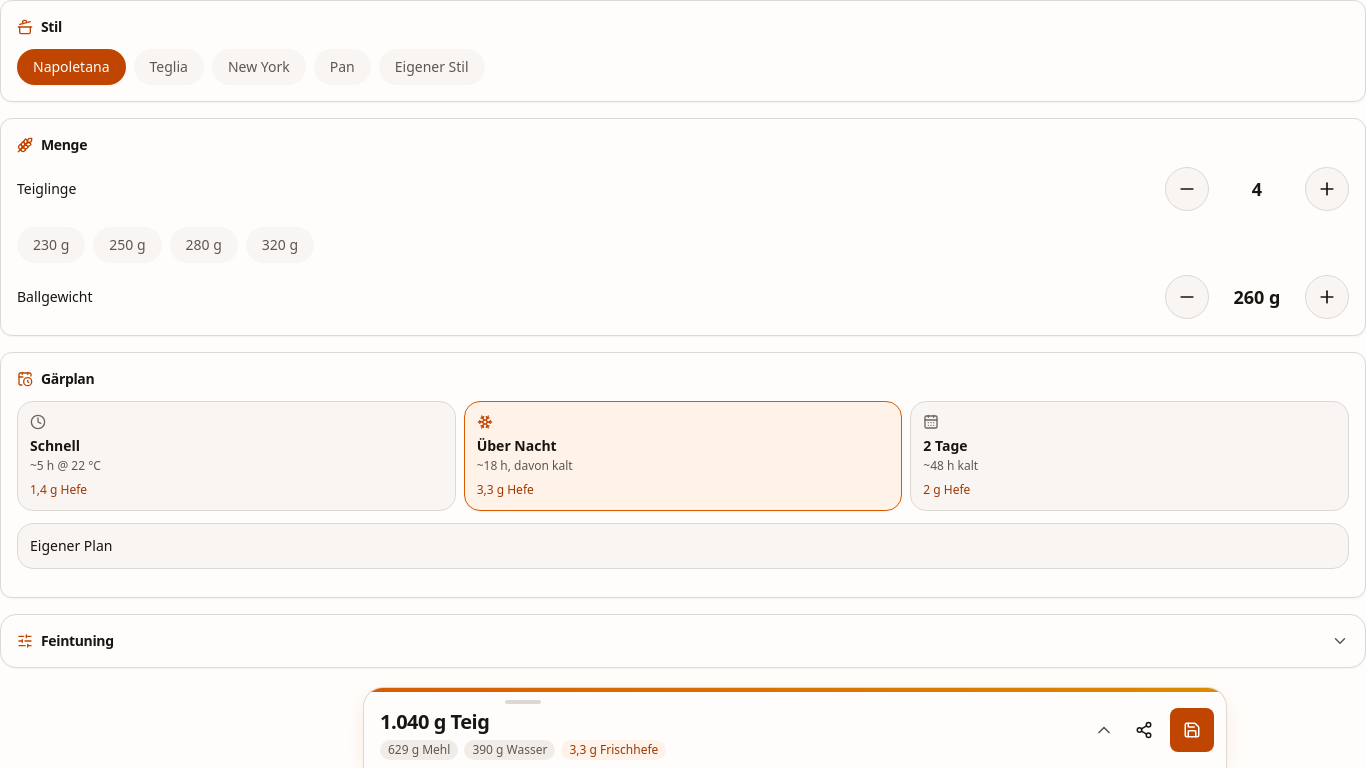
Scenario: CalculatorPage › saves a recipe, then detaches again via the Neu action
This screenshot has width=1366, height=768.
Save is reachable without expanding the result sheet.
Click the button named "Speichern".
click(1192, 730)  # box top-left (1170, 708), bottom-right (1214, 752)
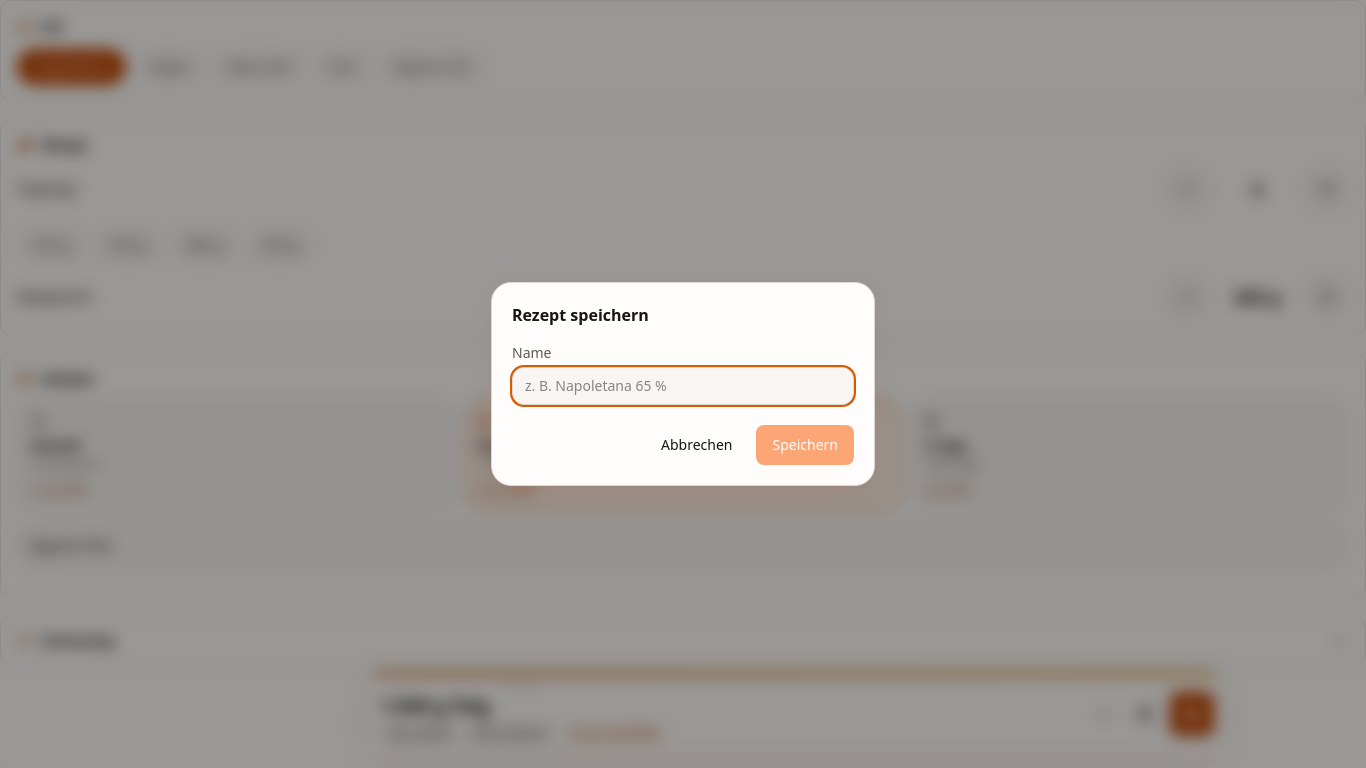
Type "Testpizza" into the field labelled "Name".
click(683, 386); type("Testpizza")  # box top-left (512, 367), bottom-right (854, 405)
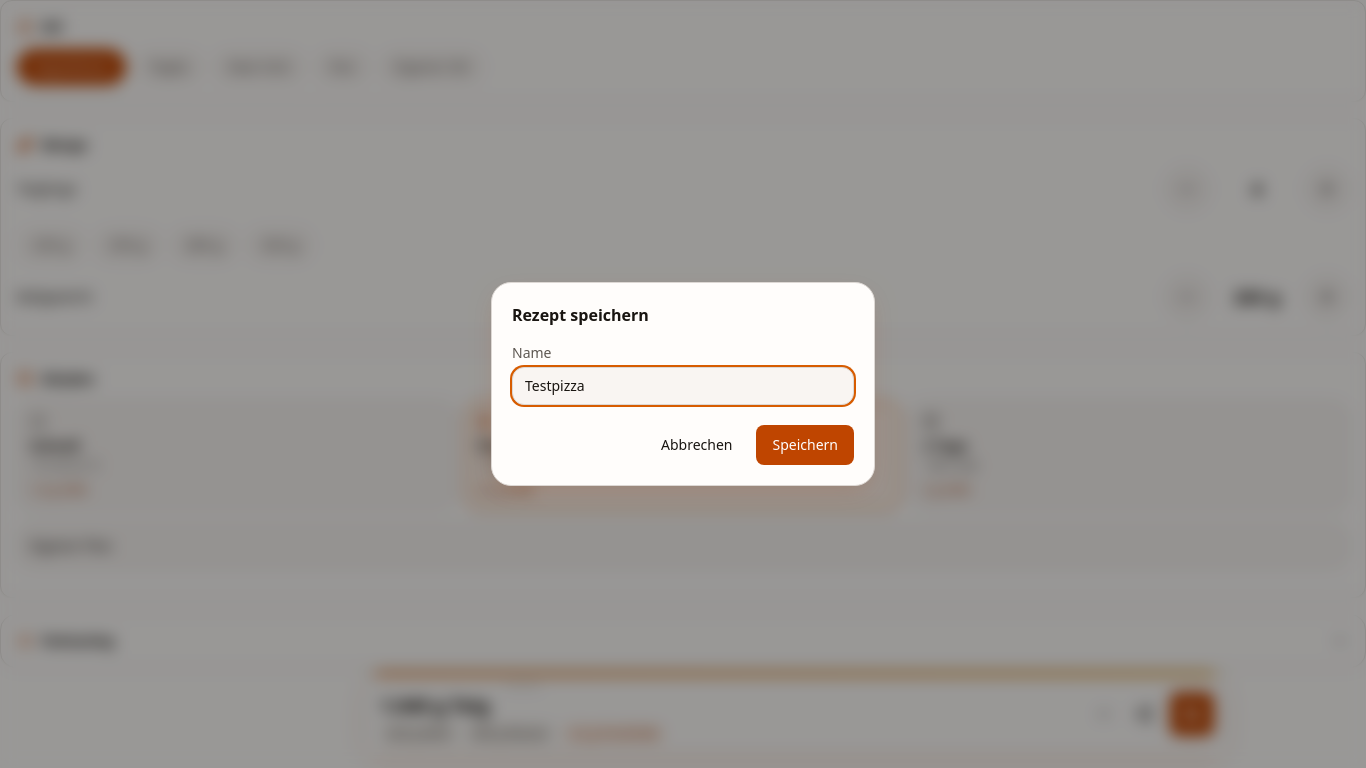
Now the button "Speichern" is shown
Click the button "Speichern".
click(805, 445)  # box top-left (756, 425), bottom-right (854, 465)
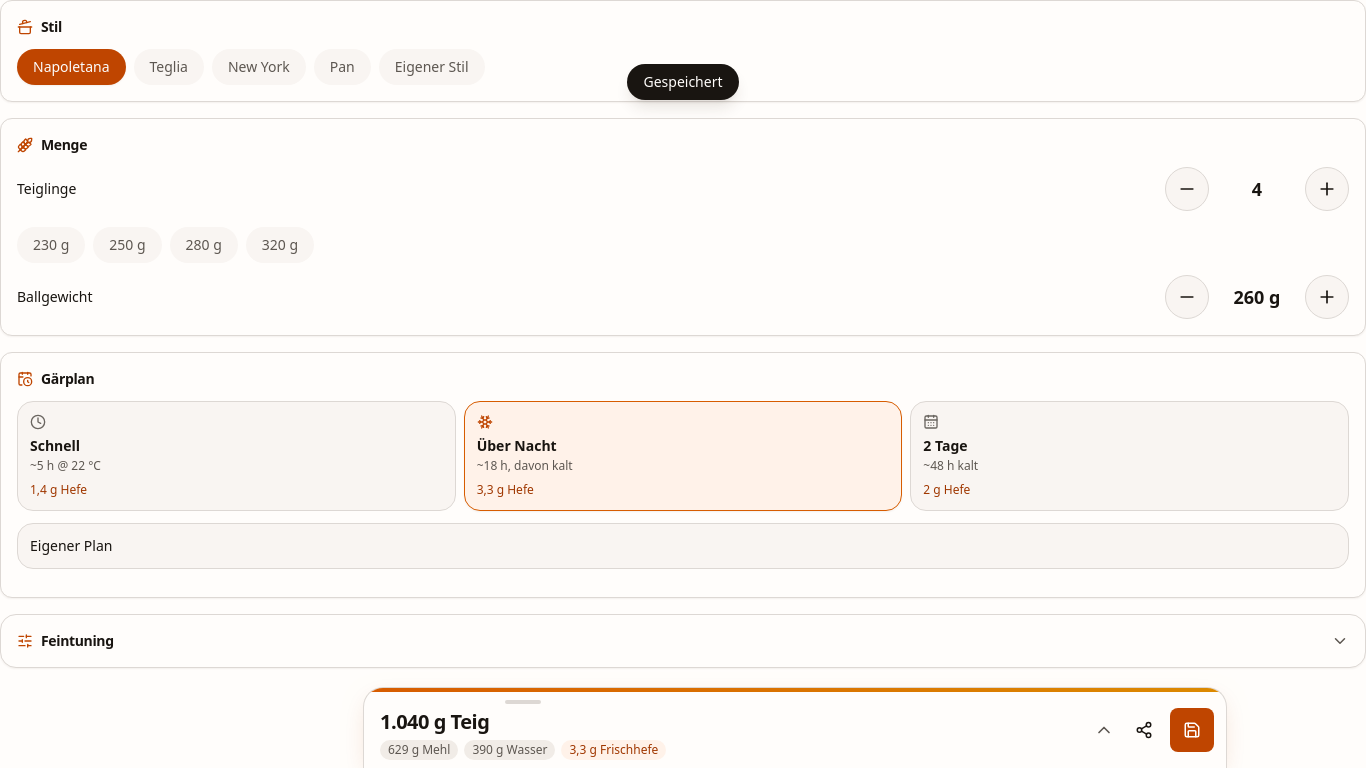
Now the button named "Aktualisieren" is shown, box top-left (1170, 708), bottom-right (1214, 752)
Neu lives in the expanded sheet and asks before discarding the draft.
Click the button with aria-label "Ergebnis aufziehen".
click(523, 702)  # box top-left (364, 692), bottom-right (1118, 767)
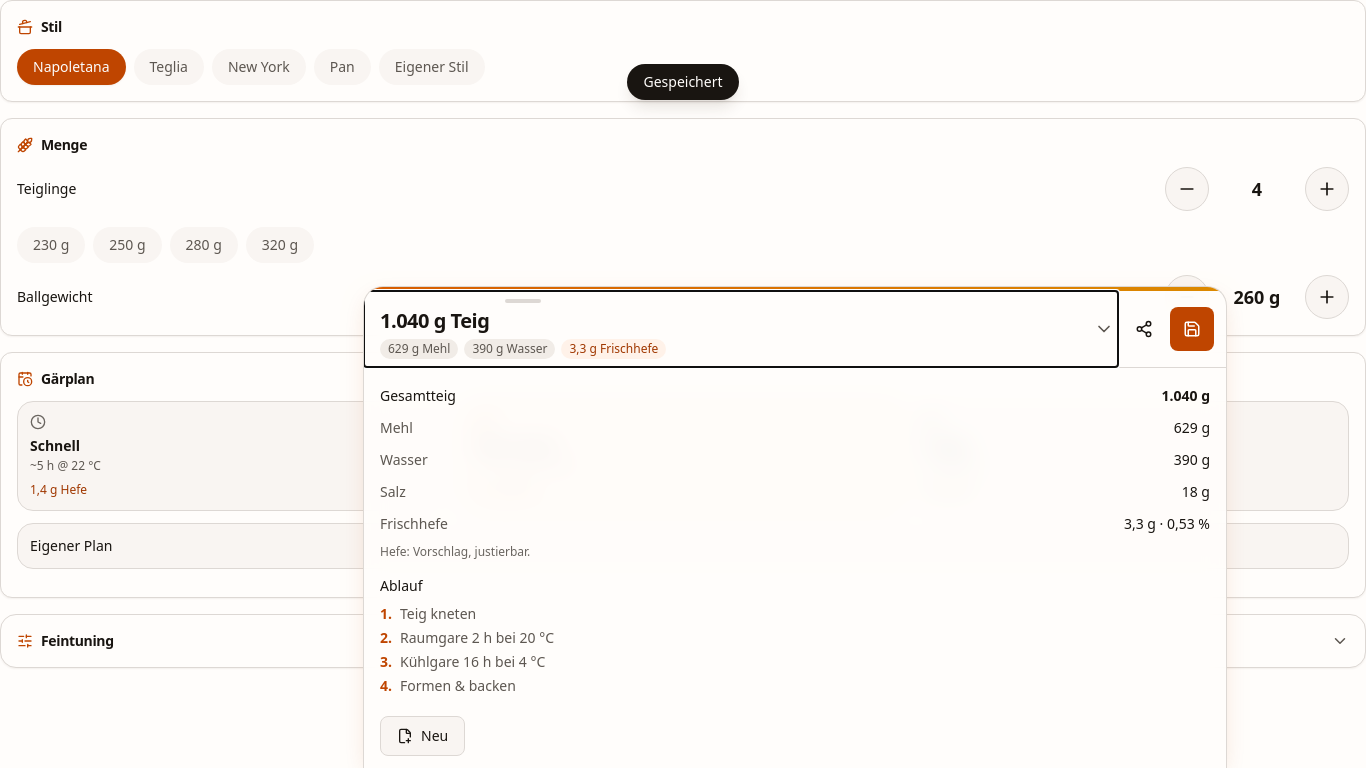
Click the button "Neu".
click(423, 736)  # box top-left (380, 716), bottom-right (465, 756)
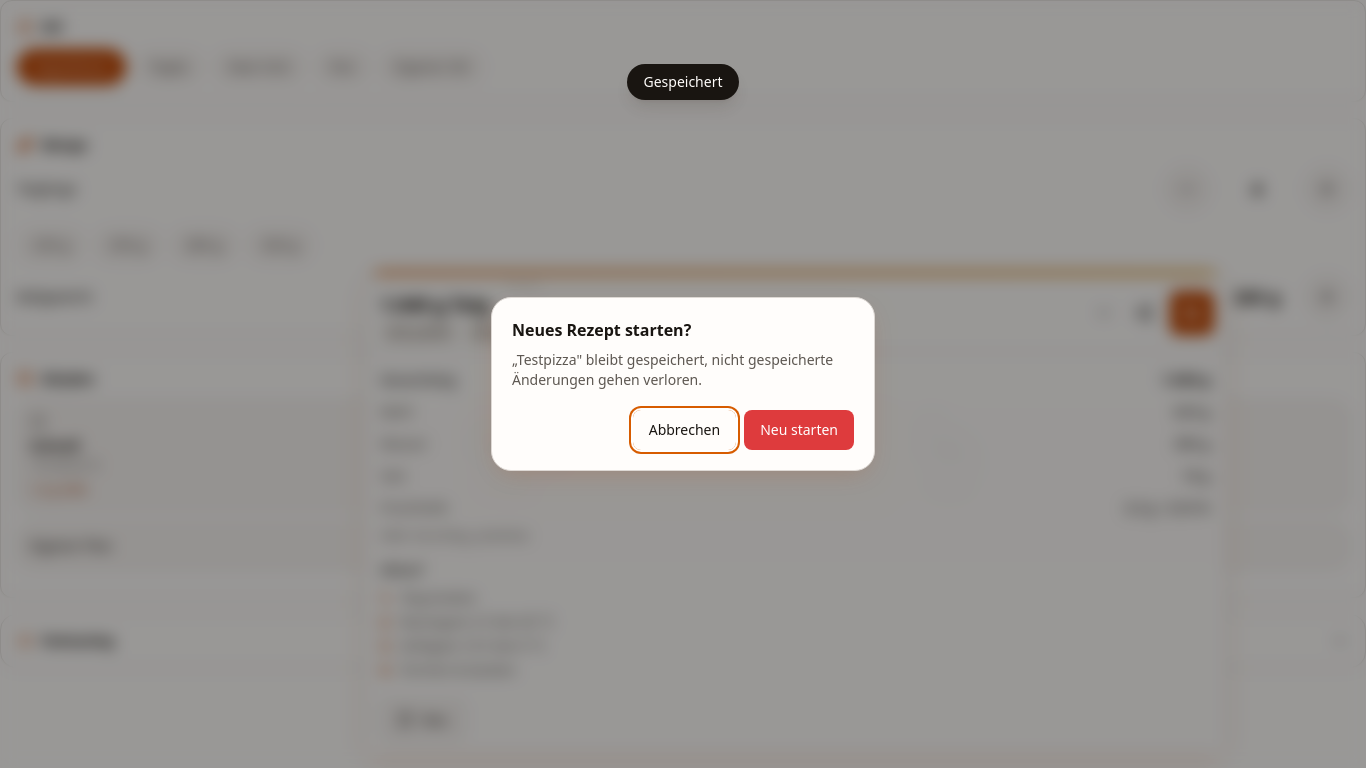
Click the button "Neu starten".
click(799, 430)  # box top-left (744, 410), bottom-right (854, 450)
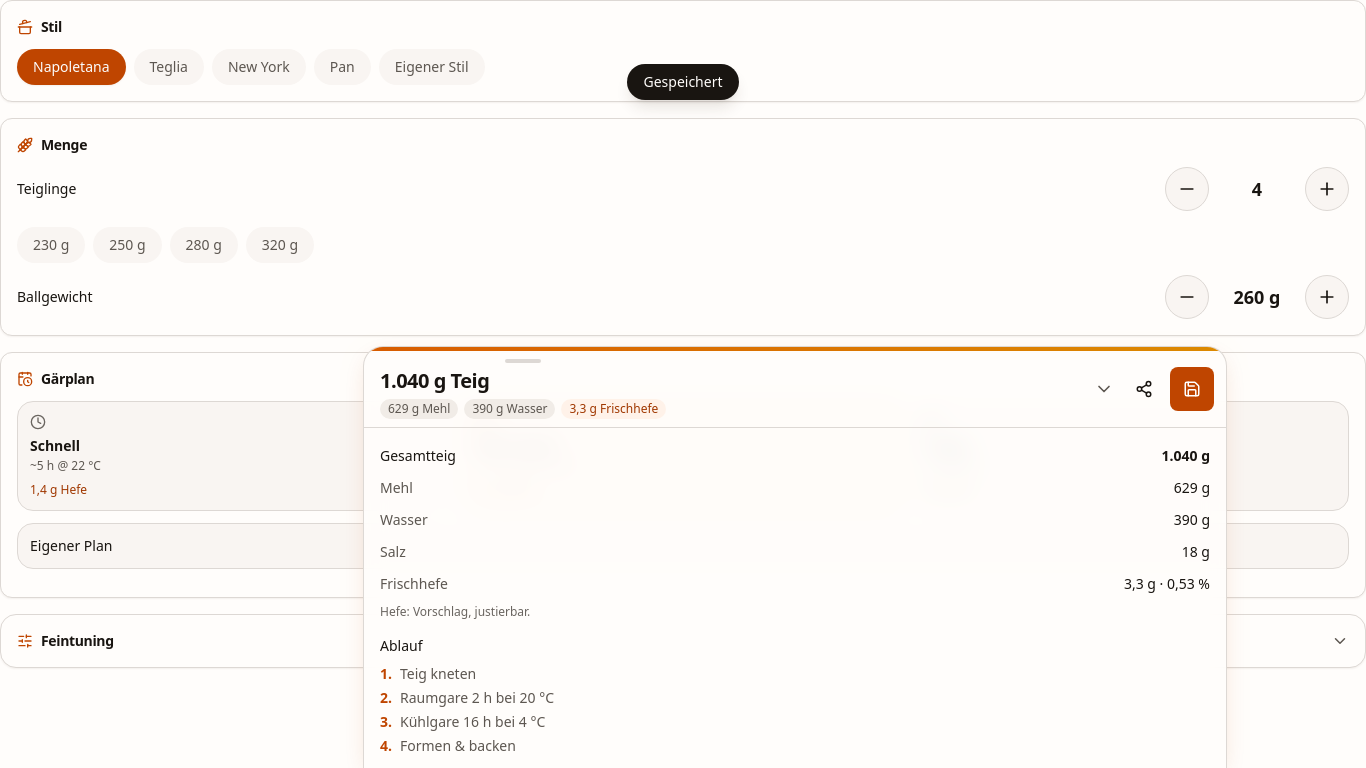
Now the button named "Speichern" is shown, box top-left (1170, 367), bottom-right (1214, 411)
Now the button "Neu" is gone
